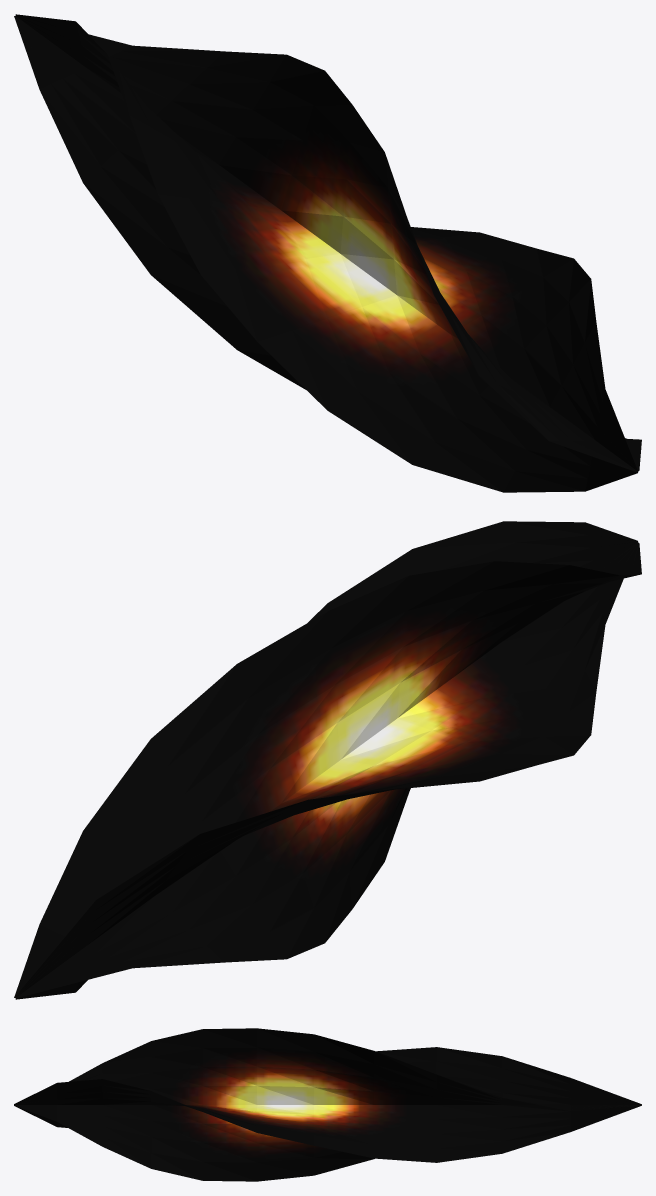
Rendered from 0286_dianzhu.glb.
The picture shows the model from 3 angles, top to bottom: view 1: azimuth 30°, elevation 25°; view 2: azimuth 150°, elevation 25°; view 3: azimuth 270°, elevation 25°; orthographic projection. The views are drawn at different scales.
Bounding box in the file's own units: 0.5696 × 0.5696 × 2.2.
Materials: 1 (1 with a texture image).
